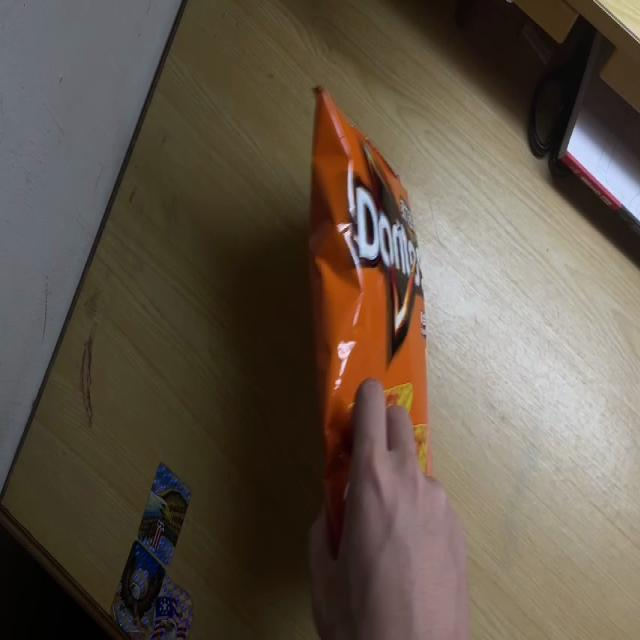Doritos: (309, 76, 430, 613)
